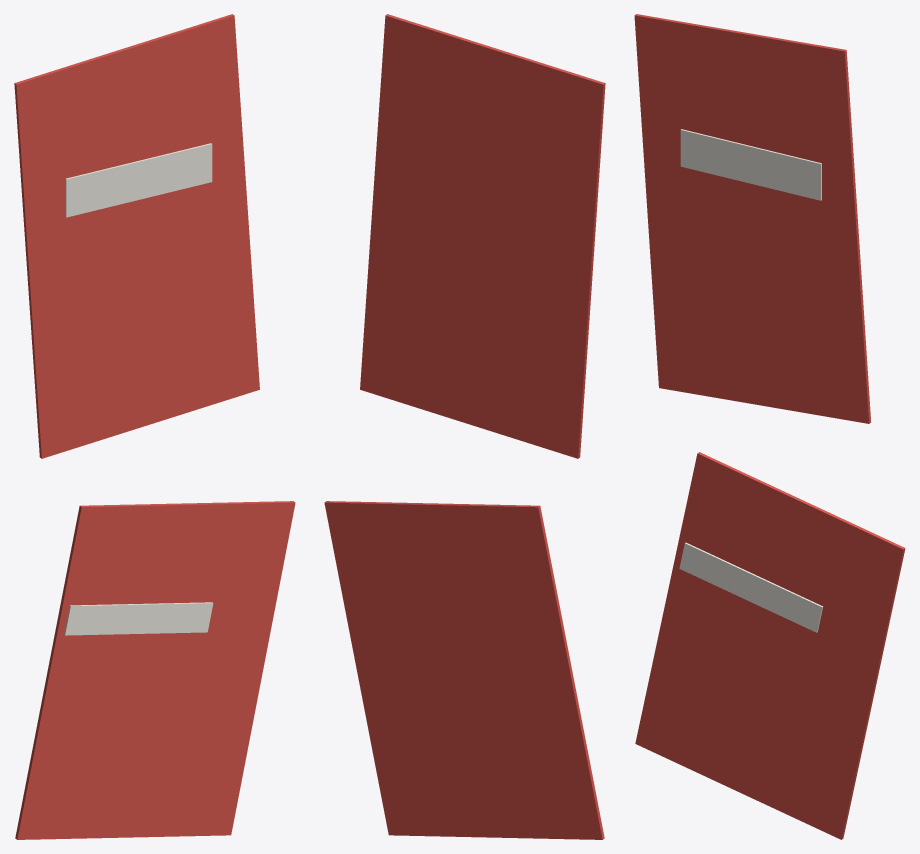
Rendered from sello_roto.glb.
3 renders of one model, left to right at view 1: azimuth 30°, elevation 25°; view 2: azimuth 150°, elevation 25°; view 3: azimuth 330°, elevation 25°, orthographic. The views are drawn at different scales.
Parts seen in each view (by area): view 1: sello_roto; view 2: sello_roto; view 3: sello_roto.
Boxes of the visible parts, left/top/right/bottom form: sello_roto: left=14, top=14, right=295, bottom=839; sello_roto: left=324, top=14, right=605, bottom=839; sello_roto: left=634, top=14, right=905, bottom=839.
Size of the model in its own units: 0.1532 by 0.4296 by 0.003.
